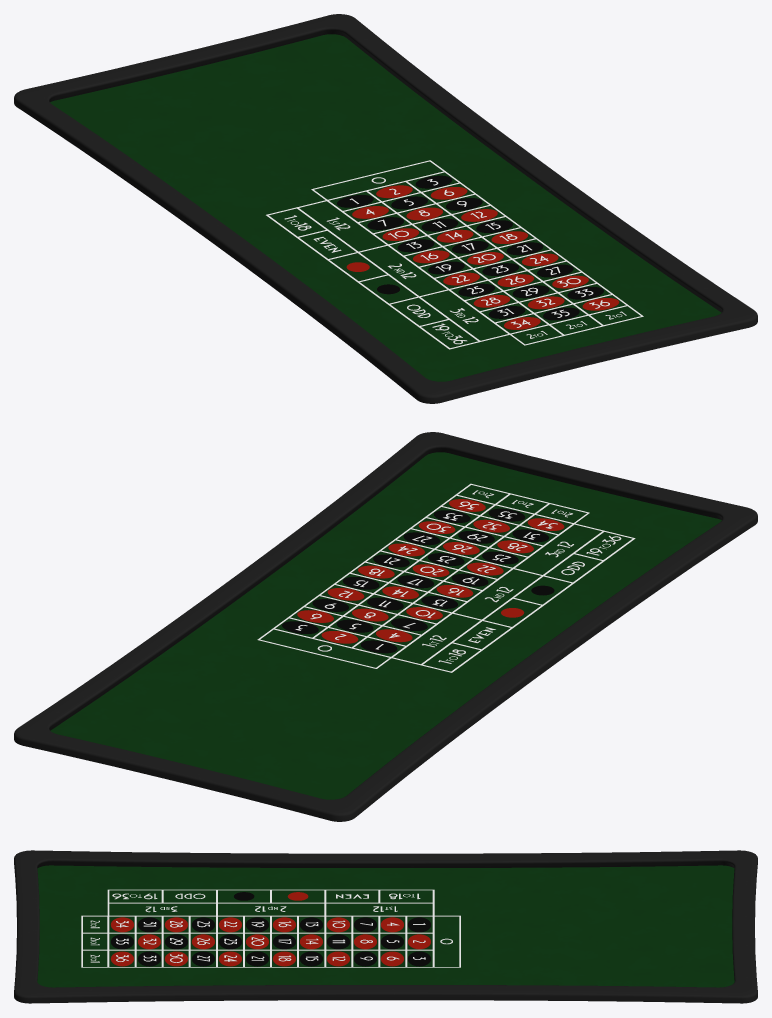
The model's file is Table.fbx.
3 renders of one model, top to bottom at view 1: azimuth 30°, elevation 25°; view 2: azimuth 150°, elevation 25°; view 3: azimuth 270°, elevation 25°, orthographic. The views are drawn at different scales.
Parts seen in each view (by area): view 1: Table; view 2: Table; view 3: Table.
Part boxes in pixels (x1=…): Table: x1=14, y1=14, x2=757, y2=403; Table: x1=14, y1=432, x2=757, y2=821; Table: x1=14, y1=850, x2=757, y2=1003.
Bounding box in the file's own units: 115 × 3 × 246.
1 material, 1 textured.
